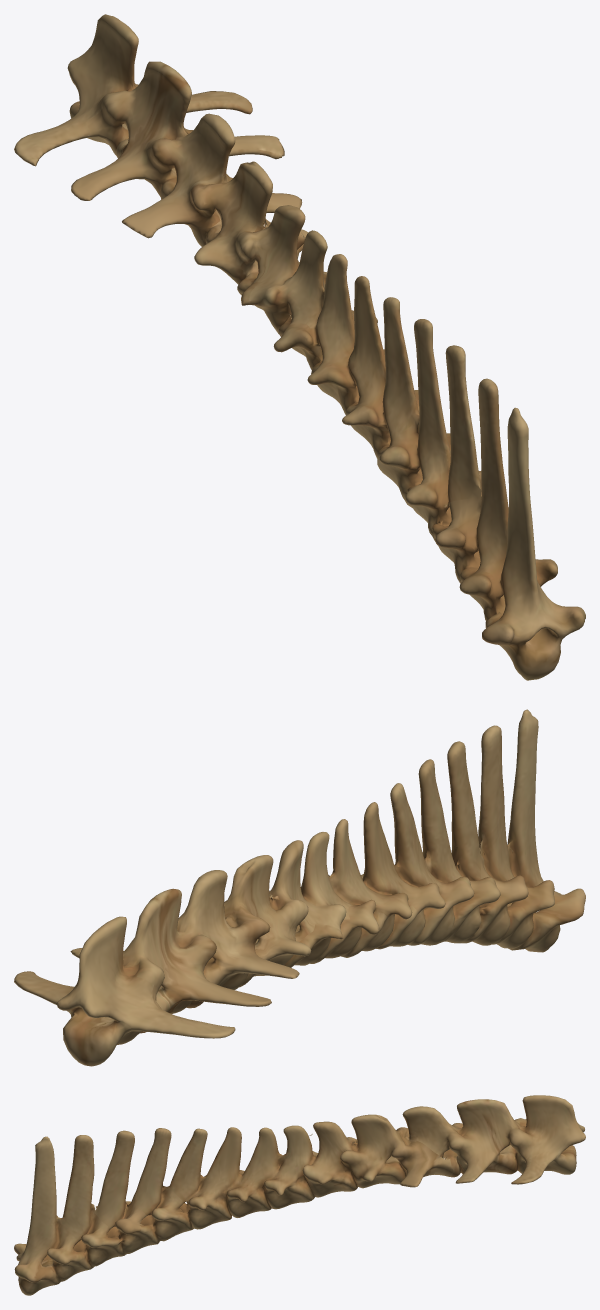
Rendered from Thoratic_Vertebrae_Combined.glb.
The picture shows the model from 3 angles, top to bottom: view 1: azimuth 30°, elevation 25°; view 2: azimuth 150°, elevation 25°; view 3: azimuth 270°, elevation 25°; orthographic projection. The views are drawn at different scales.
Parts seen in each view (by area): view 1: ZBrush_defualt_group; view 2: ZBrush_defualt_group; view 3: ZBrush_defualt_group.
Part boxes in pixels (x1,y1,x2,y2): ZBrush_defualt_group: (14, 14, 585, 680); ZBrush_defualt_group: (14, 709, 585, 1066); ZBrush_defualt_group: (14, 1095, 585, 1295).
Size of the model in its own units: 125 by 180 by 457.
Materials: 1 (1 with a texture image).
